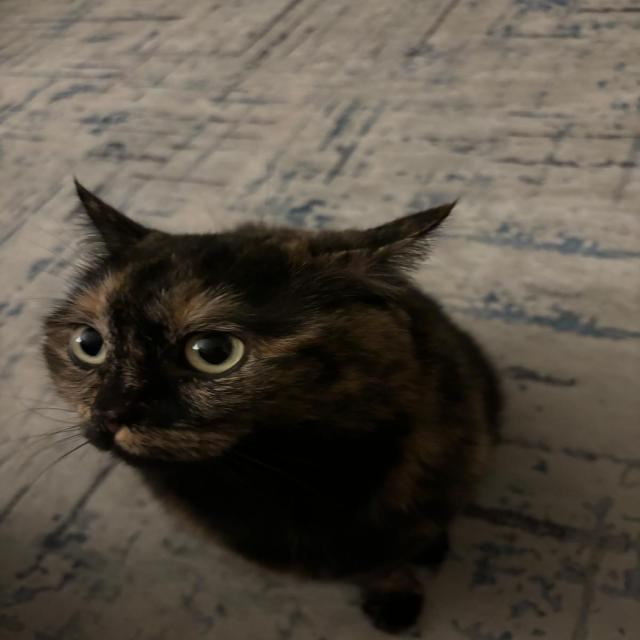authorized: (5, 175, 506, 634)
